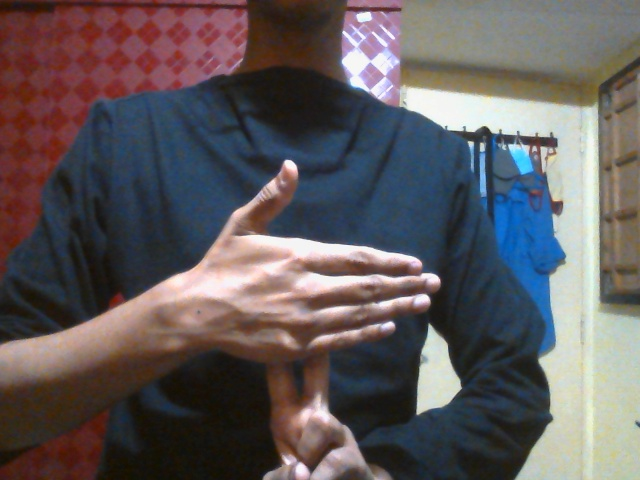N: (216, 160, 446, 480)
